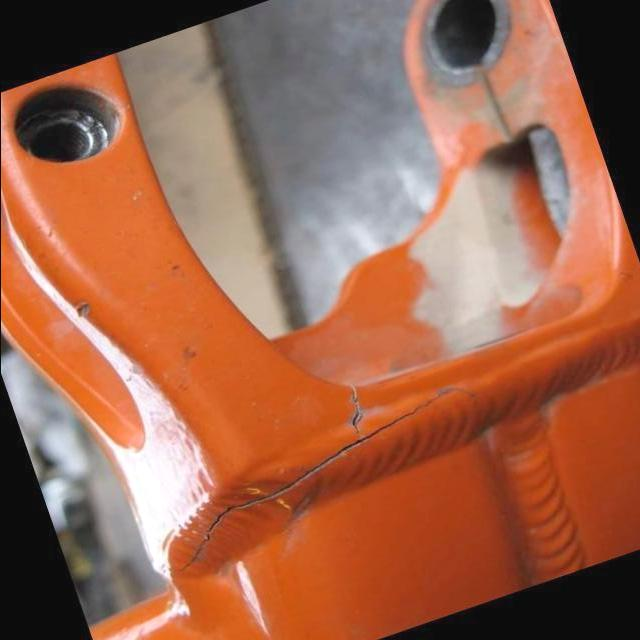defect: (174, 380, 483, 577)
